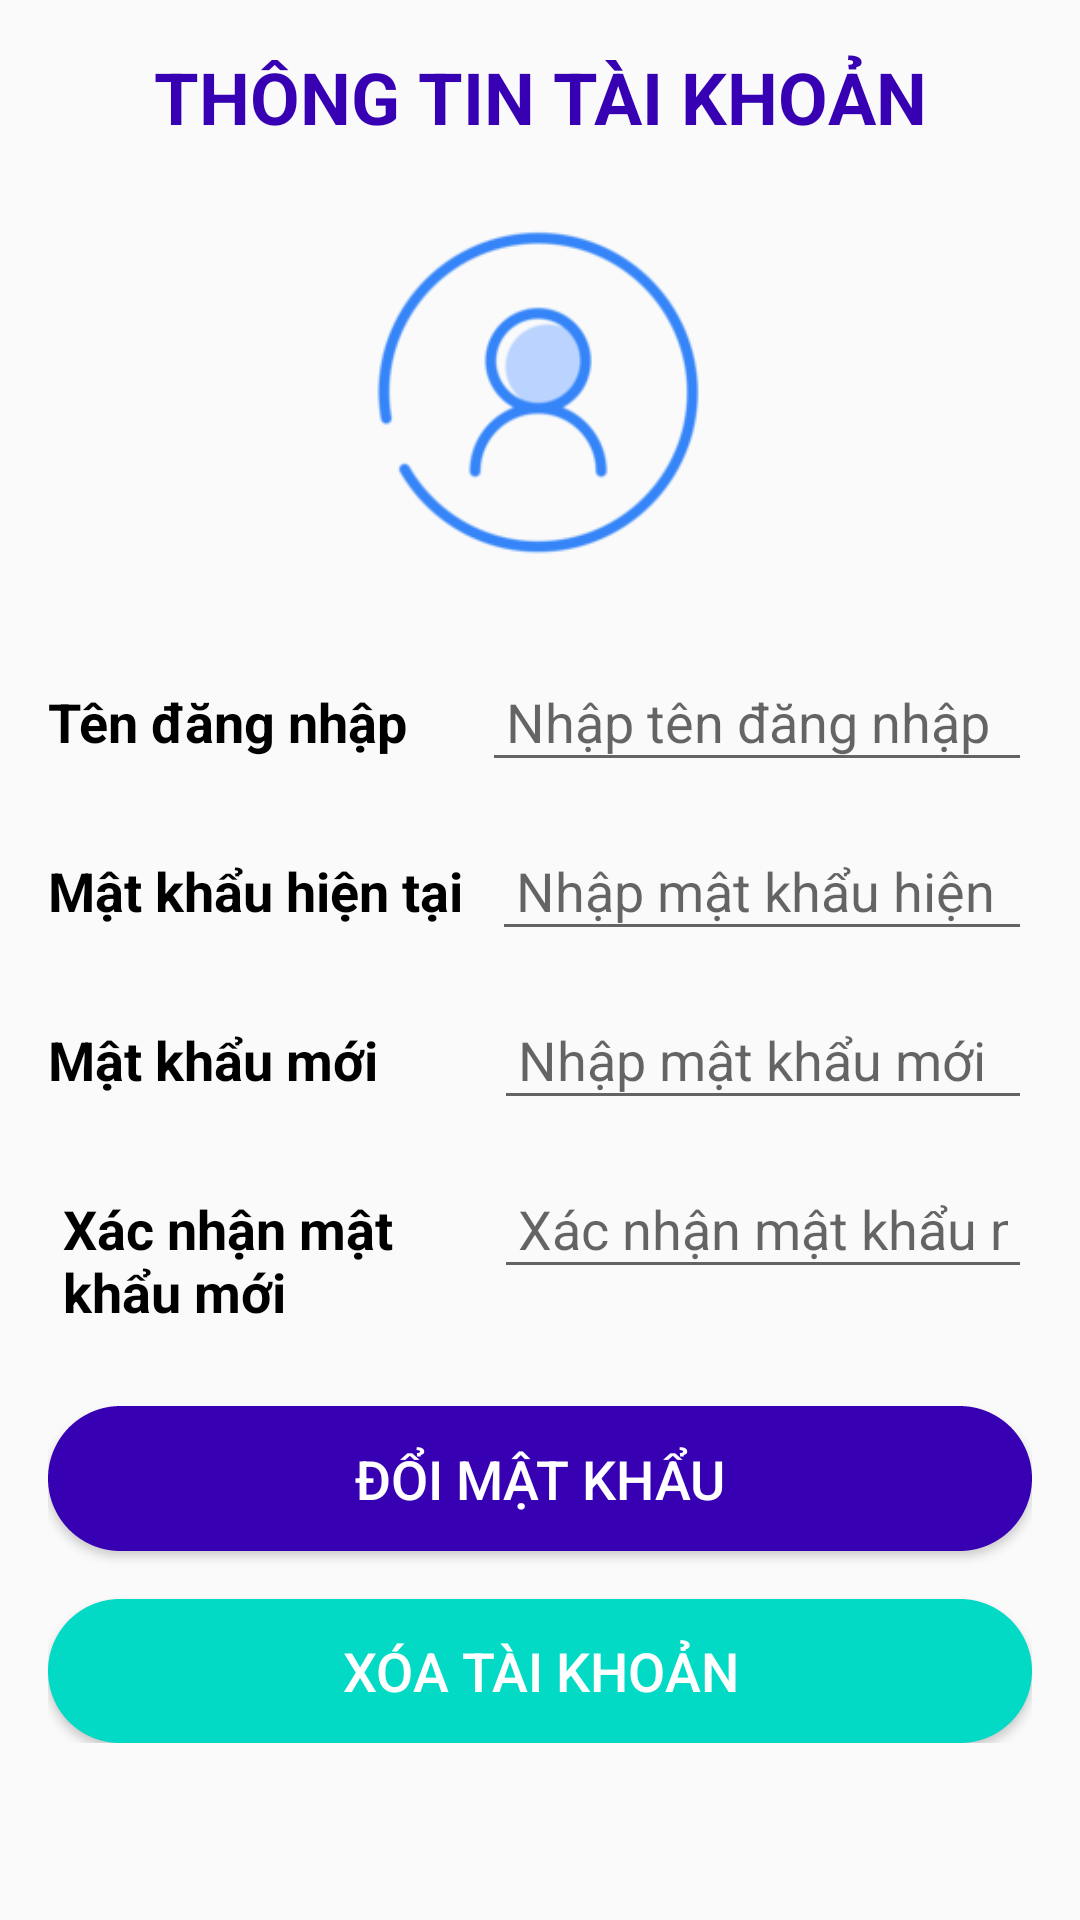

Icon click points for this 1080*1920 phone screenshot, format point (x, y):
user mini: point (538, 393)
